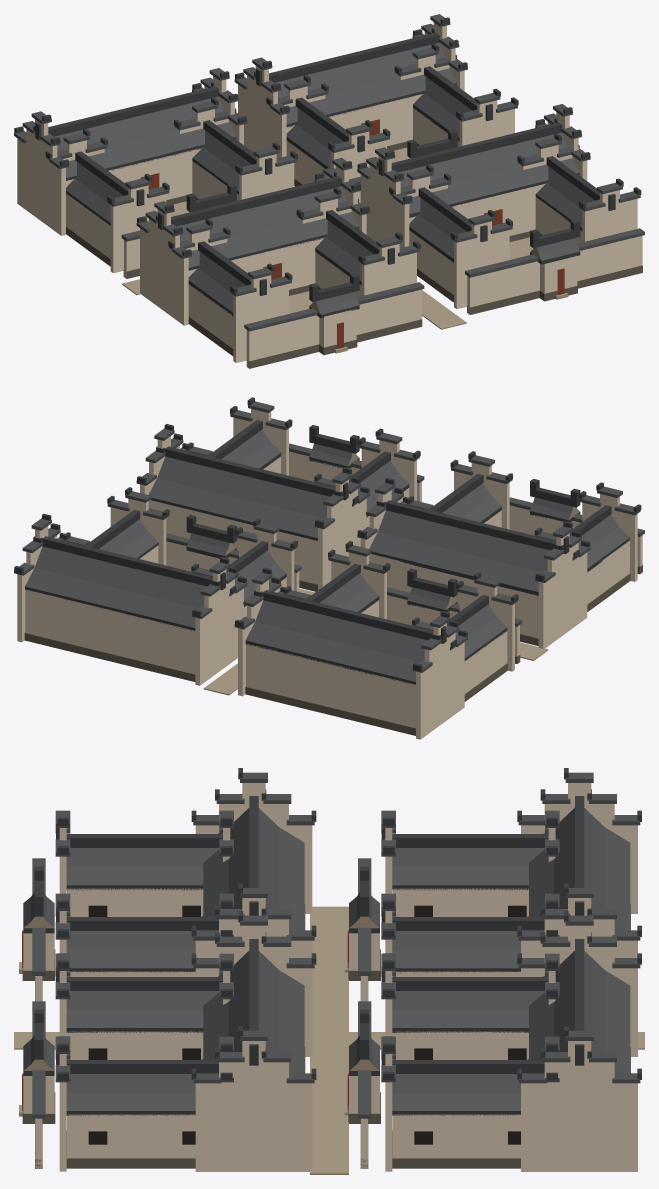
File: K07a_far.glb
3 renders of one model, top to bottom at view 1: azimuth 30°, elevation 25°; view 2: azimuth 150°, elevation 25°; view 3: azimuth 270°, elevation 25°, orthographic. The views are drawn at different scales.
Parts seen in each view (by area): view 1: K07a_far; view 2: K07a_far; view 3: K07a_far.
Part boxes in pixels (<box>): K07a_far: <box>14,14,644,368</box>; K07a_far: <box>14,397,644,739</box>; K07a_far: <box>14,768,644,1174</box>.
Bounding box in the file's own units: 40.5 × 10.05 × 40.5.
